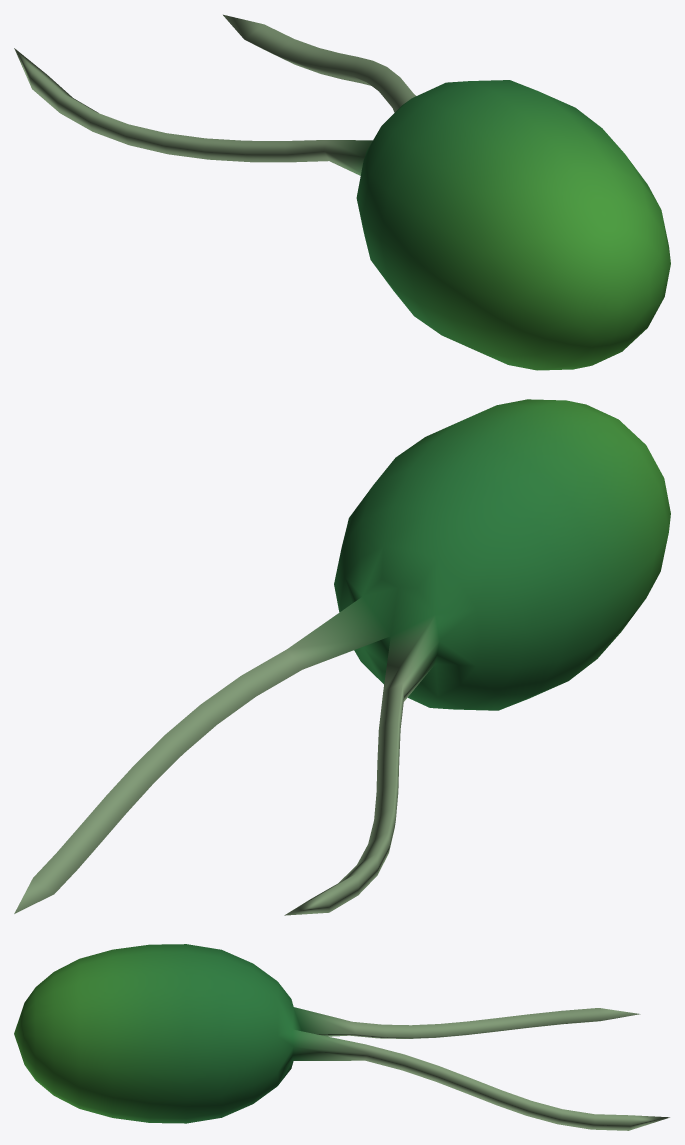
The model's file is microscopic-protists-green-algae-cell_v1.glb.
3 views of the same model, one above another, from view 1: azimuth 30°, elevation 25°; view 2: azimuth 150°, elevation 25°; view 3: azimuth 270°, elevation 25° (orthographic). The views are drawn at different scales.
Parts seen in each view (by area): view 1: Green Algae Cell_v1; view 2: Green Algae Cell_v1; view 3: Green Algae Cell_v1.
Part boxes in pixels (box(x1,y1,x2,y2)): Green Algae Cell_v1: box(14, 14, 670, 370); Green Algae Cell_v1: box(14, 399, 670, 915); Green Algae Cell_v1: box(14, 944, 669, 1130).
Size of the model in its own units: 0.0331 by 0.0274 by 0.1.
